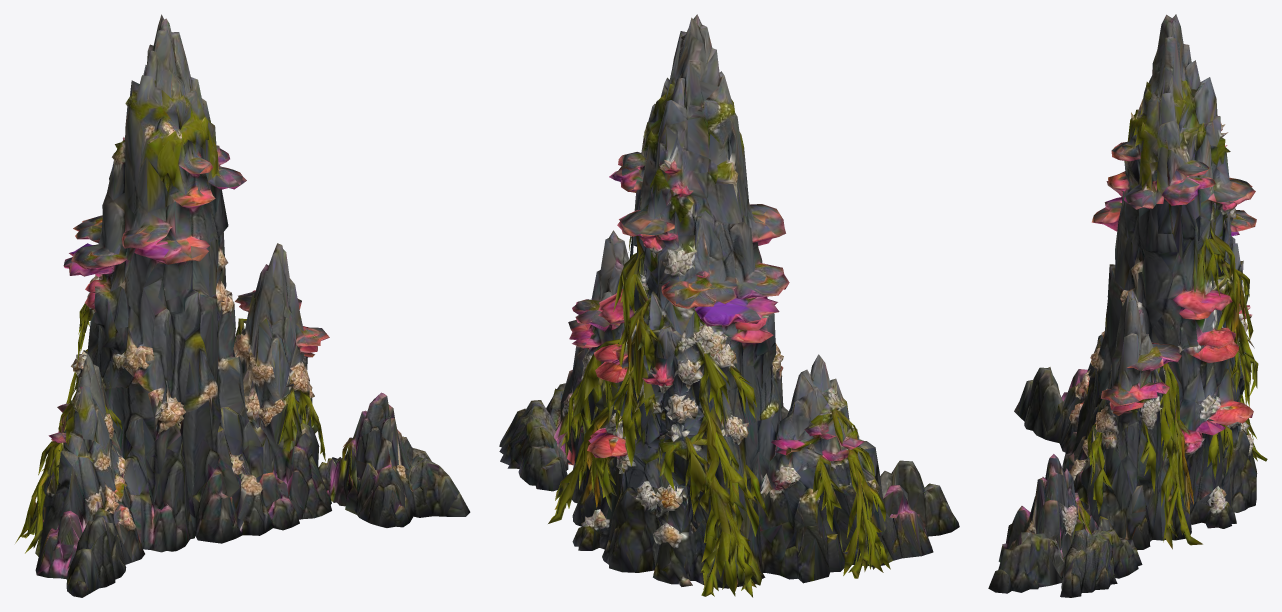
File: limestone_coral_needle.glb
The picture shows the model from 3 angles, left to right: view 1: azimuth 30°, elevation 25°; view 2: azimuth 150°, elevation 25°; view 3: azimuth 270°, elevation 25°; orthographic projection. The views are drawn at different scales.
Parts seen in each view (by area): view 1: Model; view 2: Model; view 3: Model.
Boxes of the visible parts, bbox=[...] form: Model: bbox=[15, 14, 470, 597]; Model: bbox=[499, 14, 959, 597]; Model: bbox=[988, 14, 1267, 597].
Bounding box in the file's own units: 27.71 × 32 × 17.01.
1 material, 1 textured.
